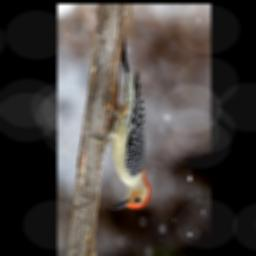Woodpecker: (88, 40, 151, 211)
